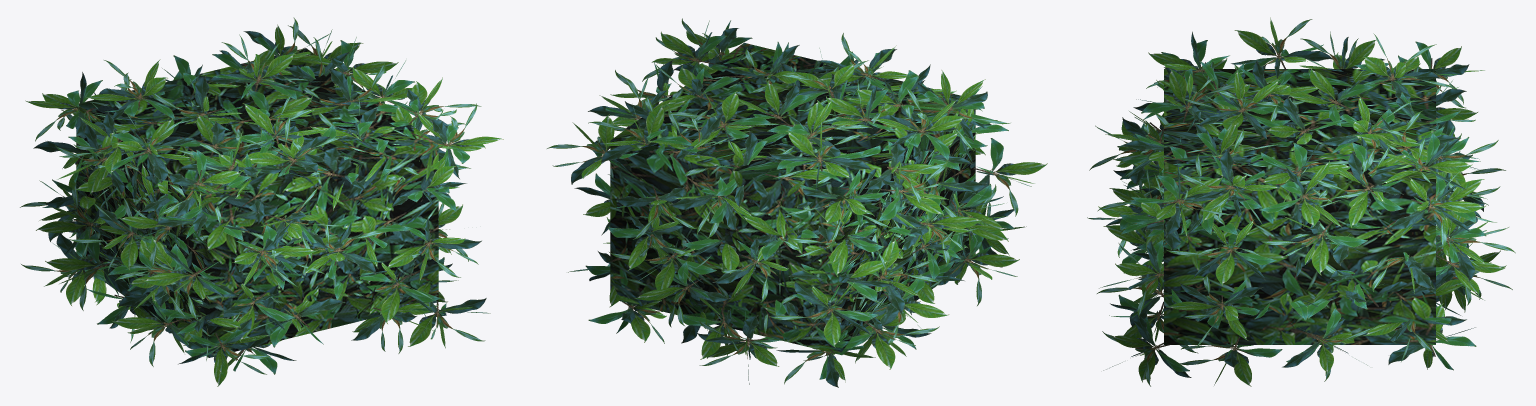
File: Hedge_Block.fbx
3 views of the same model, side by side, from view 1: azimuth 30°, elevation 25°; view 2: azimuth 150°, elevation 25°; view 3: azimuth 270°, elevation 25° (orthographic). The views are drawn at different scales.
Visible parts, largest first — view 1: Hedge_Block; view 2: Hedge_Block; view 3: Hedge_Block.
Part boxes in pixels (bbox=[...]): Hedge_Block: bbox=[20, 17, 503, 386]; Hedge_Block: bbox=[547, 18, 1047, 387]; Hedge_Block: bbox=[1087, 17, 1515, 386].
Size of the model in its own units: 0.6941 by 0.45 by 0.7.
Materials: 1 (1 with a texture image).
